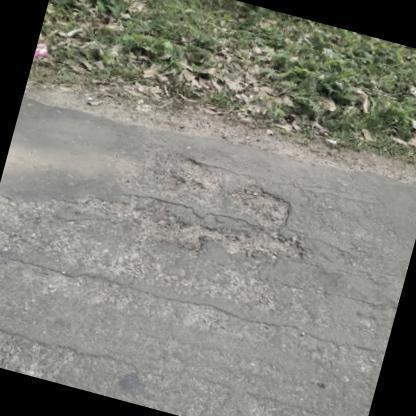pothole: (119, 150, 304, 264)
